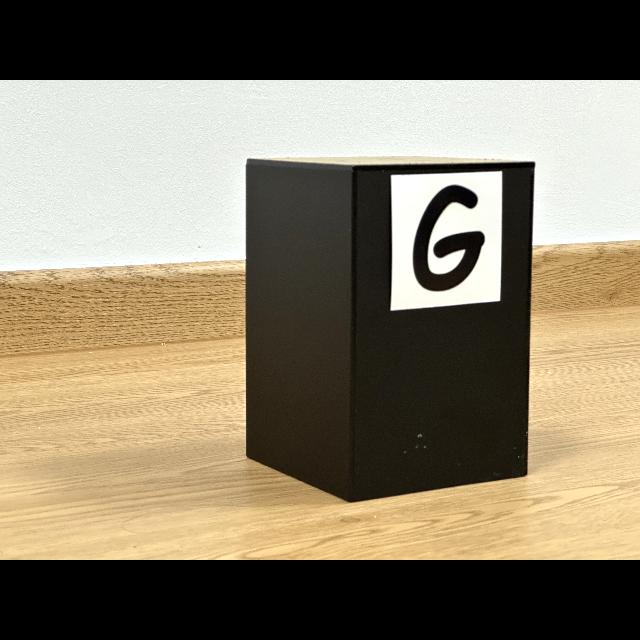G: (412, 185, 485, 291)
